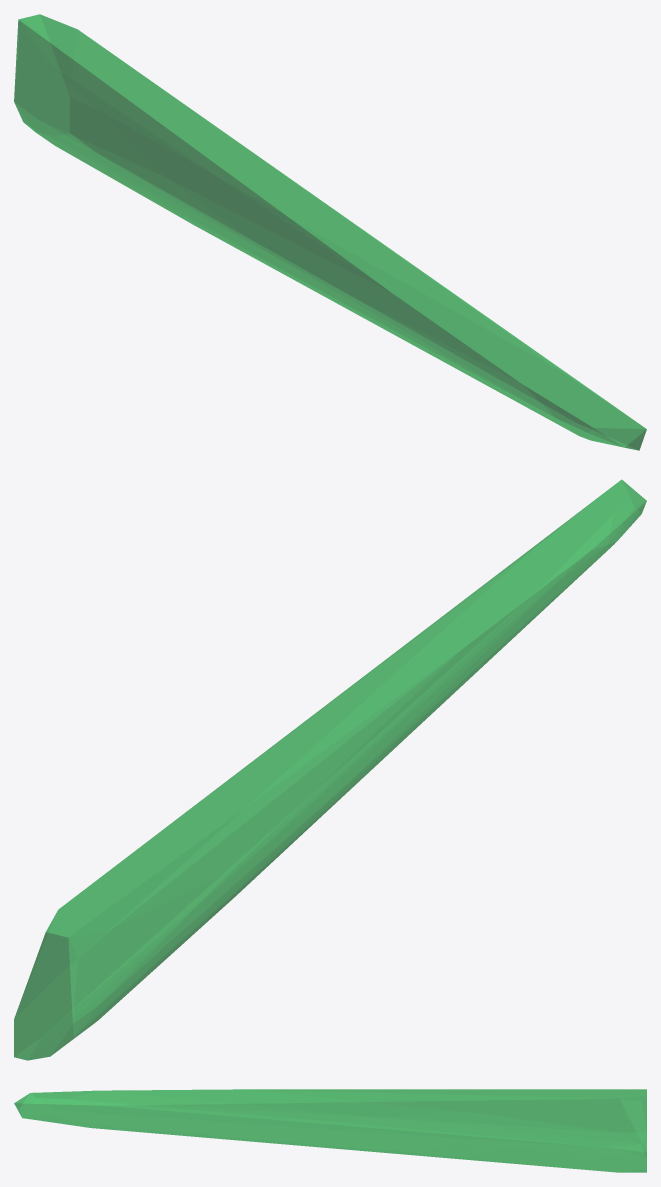
3 views of the same model, one above another, from view 1: azimuth 30°, elevation 25°; view 2: azimuth 150°, elevation 25°; view 3: azimuth 270°, elevation 25° (orthographic). The views are drawn at different scales.
Parts seen in each view (by area): view 1: Shape_IndexedFaceSet.001_Shape_IndexedFaceSet.4420; view 2: Shape_IndexedFaceSet.001_Shape_IndexedFaceSet.4420; view 3: Shape_IndexedFaceSet.001_Shape_IndexedFaceSet.4420.
Boxes of the visible parts, x1,y1,x2,y2 form: Shape_IndexedFaceSet.001_Shape_IndexedFaceSet.4420: (14,14,646,450); Shape_IndexedFaceSet.001_Shape_IndexedFaceSet.4420: (14,479,646,1060); Shape_IndexedFaceSet.001_Shape_IndexedFaceSet.4420: (14,1089,646,1172).
Bounding box in the file's own units: 0.00417 × 0.00897 × 0.0743.
